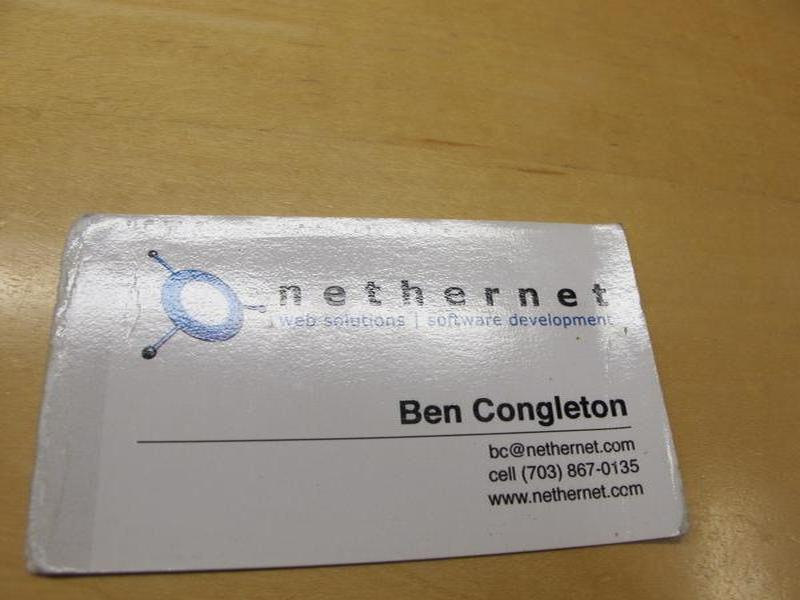card: (29, 214, 693, 567)
